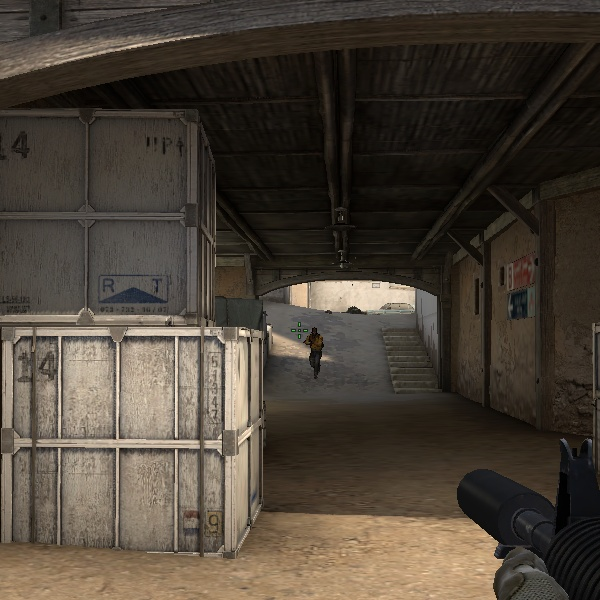t_body: (301, 323, 328, 377)
